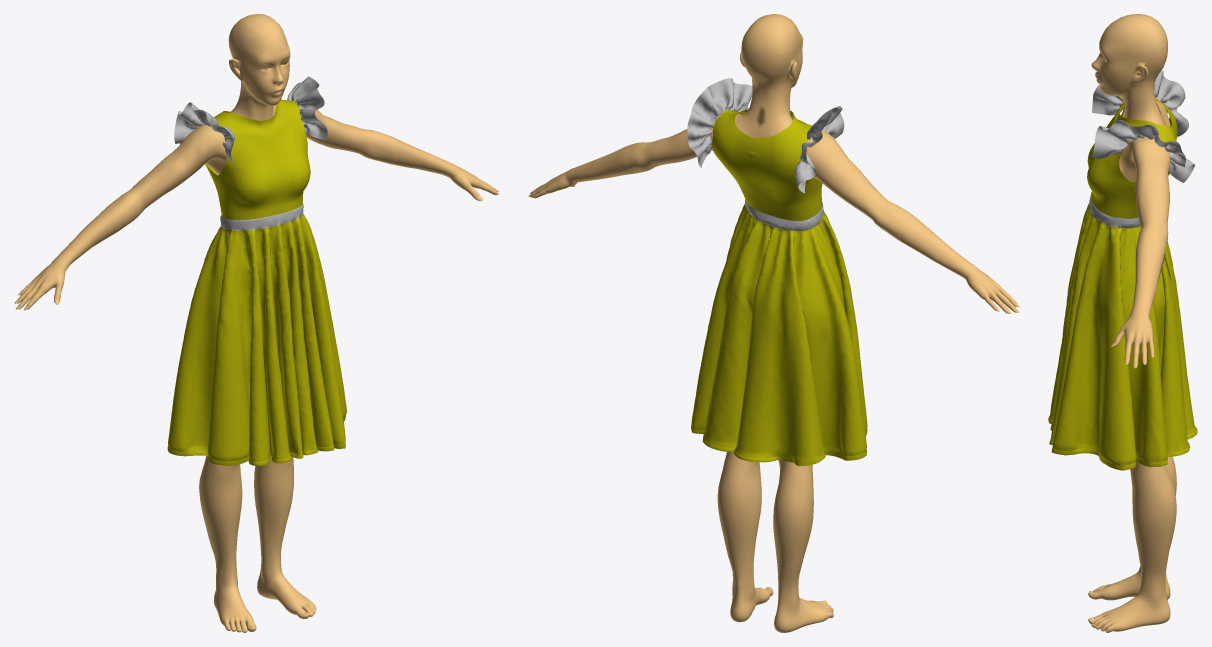
File: dress10.glb
The picture shows the model from 3 angles, left to right: view 1: azimuth 30°, elevation 25°; view 2: azimuth 150°, elevation 25°; view 3: azimuth 270°, elevation 25°; orthographic projection.
Visible parts, largest first — view 1: PinkDrees#14 (OBJ), Body; view 2: PinkDrees#14 (OBJ), Body; view 3: PinkDrees#14 (OBJ), Body.
Part boxes in pixels (x1=…): PinkDrees#14 (OBJ): x1=167, y1=76, x2=346, y2=465; Body: x1=17, y1=14, x2=498, y2=632; PinkDrees#14 (OBJ): x1=687, y1=78, x2=867, y2=465; Body: x1=529, y1=14, x2=1016, y2=632; PinkDrees#14 (OBJ): x1=1048, y1=70, x2=1197, y2=470; Body: x1=1088, y1=14, x2=1176, y2=632.
Bounding box in the file's own units: 1.58 × 1.85 × 0.4187.
